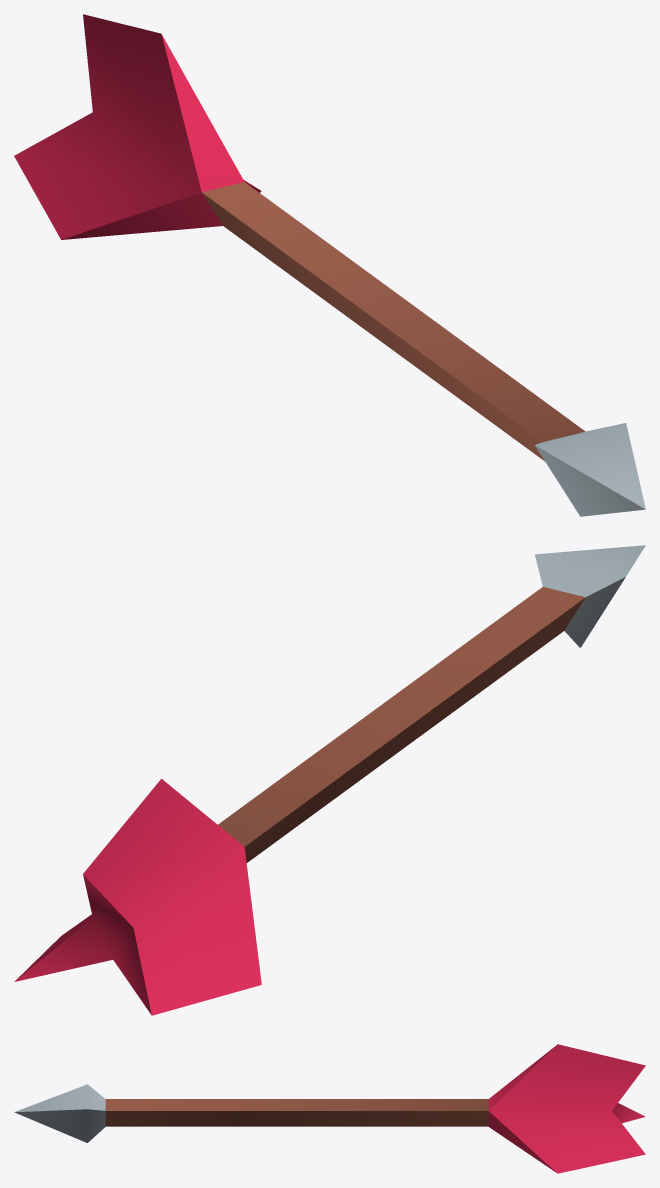
The model's file is arrow.gltf.glb.
The picture shows the model from 3 angles, top to bottom: view 1: azimuth 30°, elevation 25°; view 2: azimuth 150°, elevation 25°; view 3: azimuth 270°, elevation 25°; orthographic projection. The views are drawn at different scales.
Visible parts, largest first — view 1: arrow; view 2: arrow; view 3: arrow.
Boxes of the visible parts, left/top/right/bottom form: arrow: left=14, top=14, right=645, bottom=516; arrow: left=14, top=545, right=645, bottom=1015; arrow: left=14, top=1044, right=645, bottom=1173.
Bounding box in the file's own units: 0.15 × 0.1299 × 0.729.
